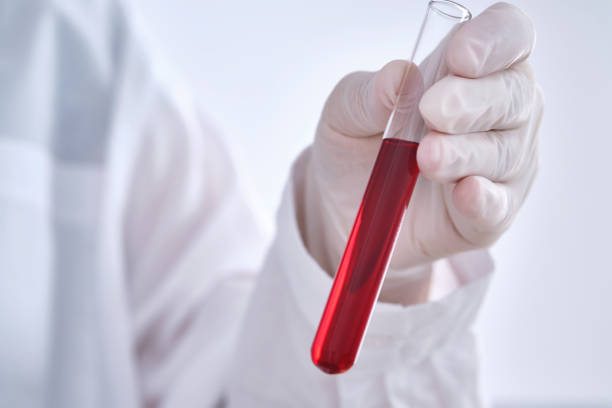blood: (308, 136, 426, 376)
